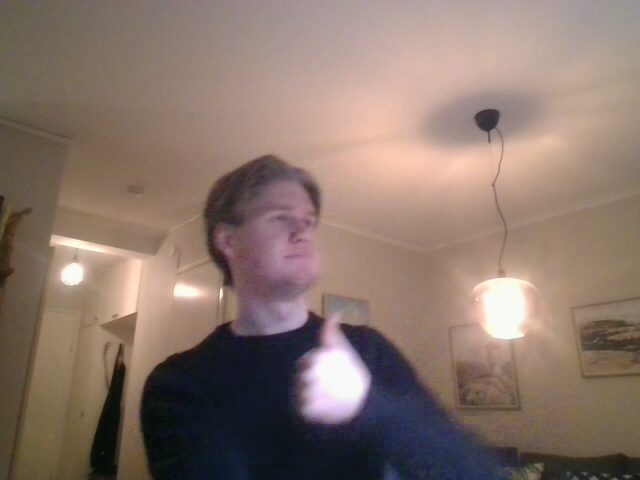ThumbsUp: (290, 312, 367, 427)
